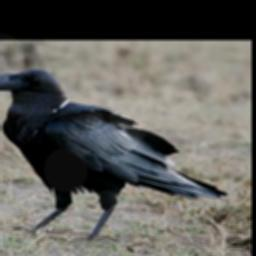Crow: (0, 68, 226, 241)
